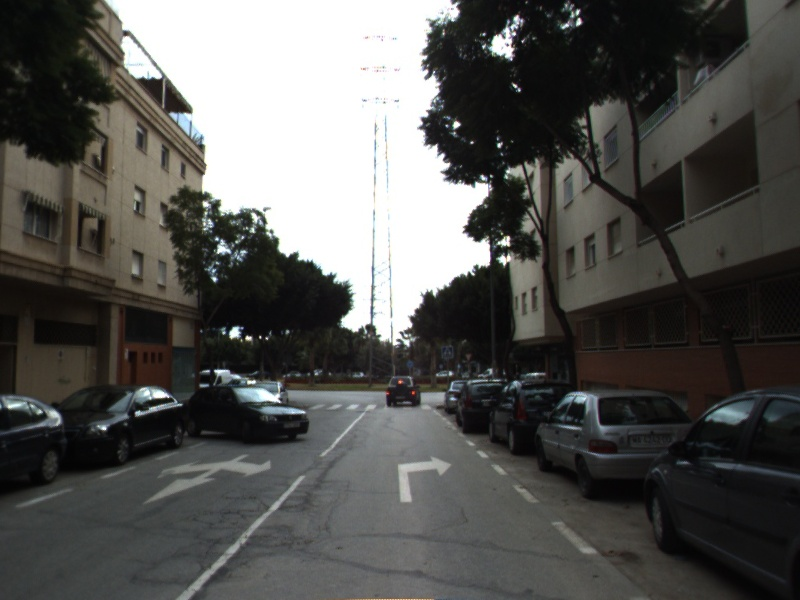RIGHT: (396, 454, 454, 504)
